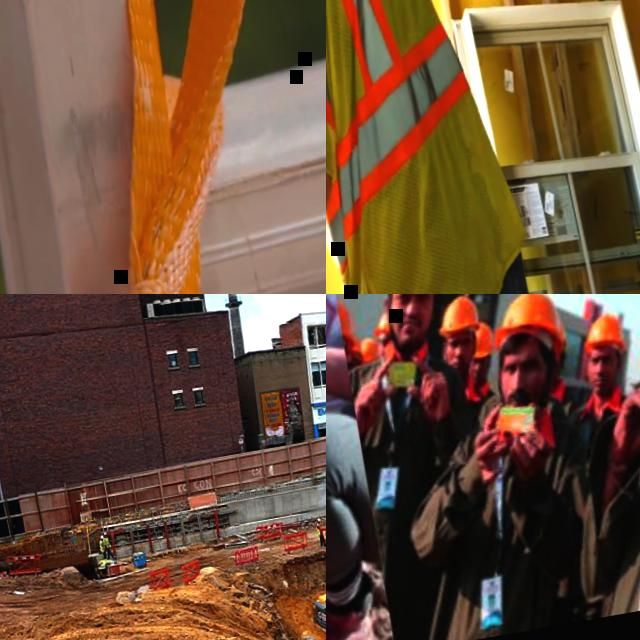Hardhat: (488, 294, 566, 352), (428, 294, 481, 336), (576, 312, 628, 354), (467, 324, 500, 361), (335, 298, 357, 341), (353, 334, 383, 362), (375, 312, 391, 340), (100, 534, 104, 540), (103, 531, 108, 535), (317, 517, 321, 521)
NO-Mask: (392, 309, 436, 348), (504, 380, 549, 413), (588, 368, 619, 393), (447, 354, 471, 374), (470, 371, 489, 386)
NO-Safety Vest: (420, 419, 589, 640), (348, 348, 468, 562), (600, 371, 640, 611), (567, 396, 635, 486), (326, 294, 354, 415), (464, 382, 497, 424)
Person: (373, 294, 607, 640), (326, 0, 576, 294), (331, 294, 491, 640), (513, 294, 640, 620), (326, 294, 400, 640), (537, 312, 640, 481), (450, 326, 508, 426), (432, 294, 486, 389), (540, 324, 580, 406), (339, 297, 369, 376), (624, 316, 640, 385), (359, 331, 382, 369), (314, 516, 326, 547), (103, 530, 115, 560), (97, 533, 107, 559)
Safety Vest: (326, 0, 556, 294), (99, 538, 107, 552), (316, 522, 323, 536), (105, 536, 110, 546)
